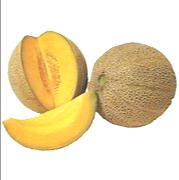Melon Ripe: (92, 42, 176, 128), (7, 30, 88, 114), (2, 90, 97, 152)
